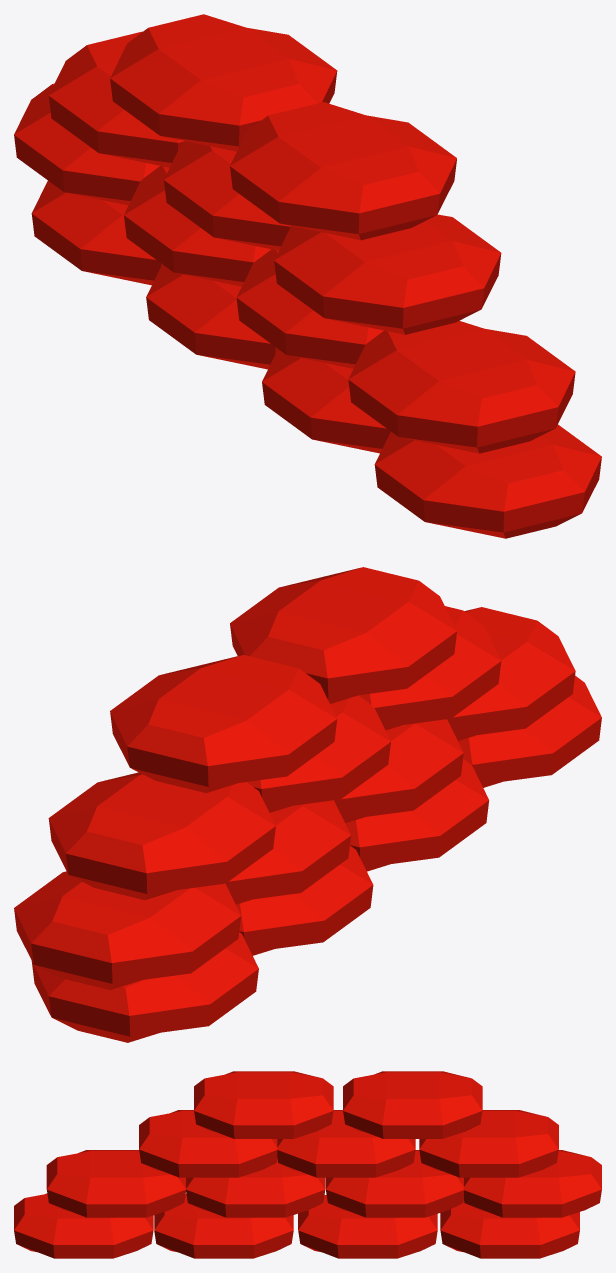
File: PebbleWall.fbx
3 views of the same model, one above another, from view 1: azimuth 30°, elevation 25°; view 2: azimuth 150°, elevation 25°; view 3: azimuth 270°, elevation 25° (orthographic). The views are drawn at different scales.
Visible parts, largest first — view 1: Cube.008; view 2: Cube.008; view 3: Cube.008.
Boxes of the visible parts, x1,y1,x2,y2 form: Cube.008: (14,14,601,538); Cube.008: (14,567,601,1042); Cube.008: (14,1071,601,1258).
Bounding box in the file's own units: 3.92 × 5.37 × 18.
